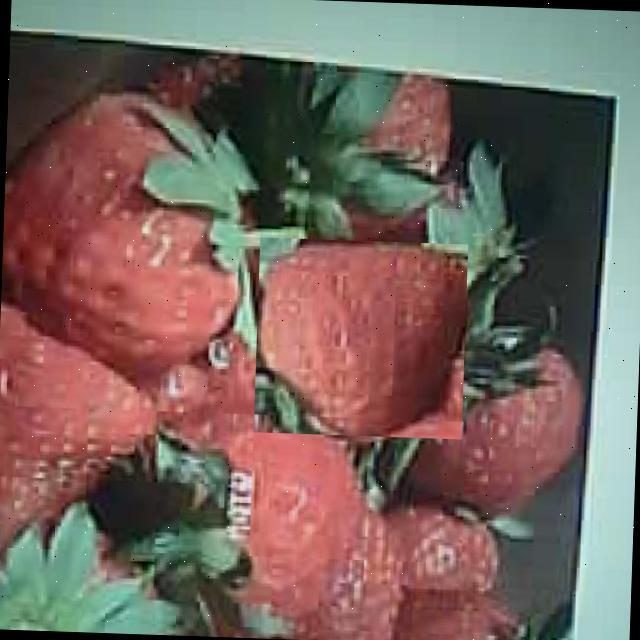ripe: (0, 90, 248, 364), (253, 237, 468, 439)
